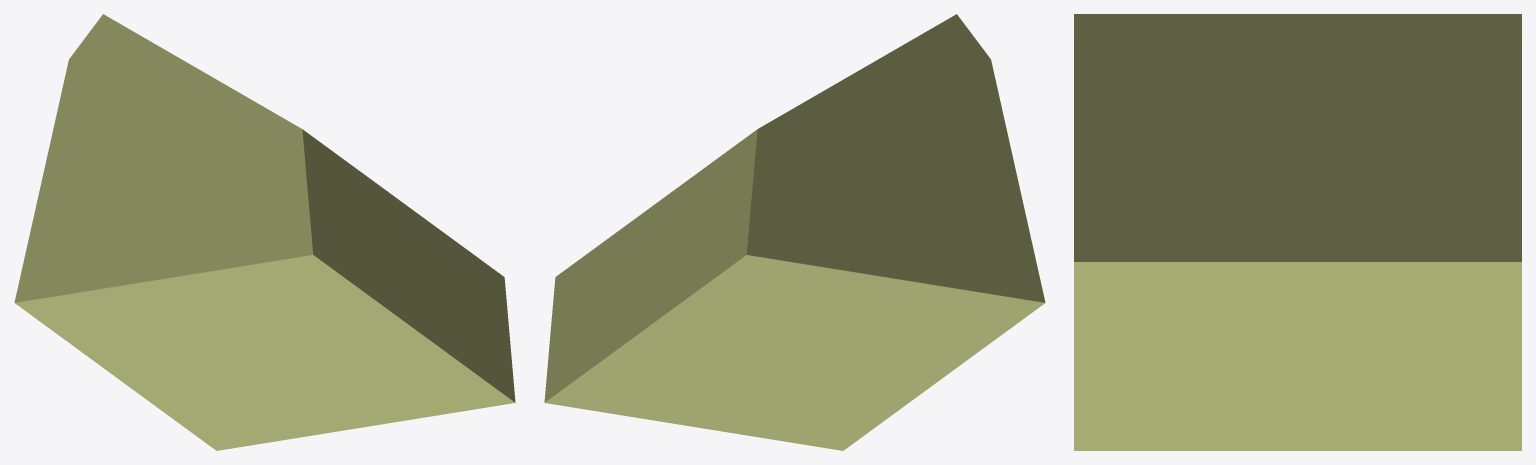
3 views of the same model, side by side, from view 1: azimuth 30°, elevation 25°; view 2: azimuth 150°, elevation 25°; view 3: azimuth 270°, elevation 25° (orthographic). The views are drawn at different scales.
Visible parts, largest first — view 1: 0_0_1_2_0_0_0_3_3_2_0; view 2: 0_0_1_2_0_0_0_3_3_2_0; view 3: 0_0_1_2_0_0_0_3_3_2_0.
Boxes of the visible parts, bbox=[...] form: 0_0_1_2_0_0_0_3_3_2_0: bbox=[14, 14, 515, 450]; 0_0_1_2_0_0_0_3_3_2_0: bbox=[544, 14, 1045, 450]; 0_0_1_2_0_0_0_3_3_2_0: bbox=[1074, 14, 1521, 450].
Bounding box in the file's own units: 7.68 × 7.17 × 9.
